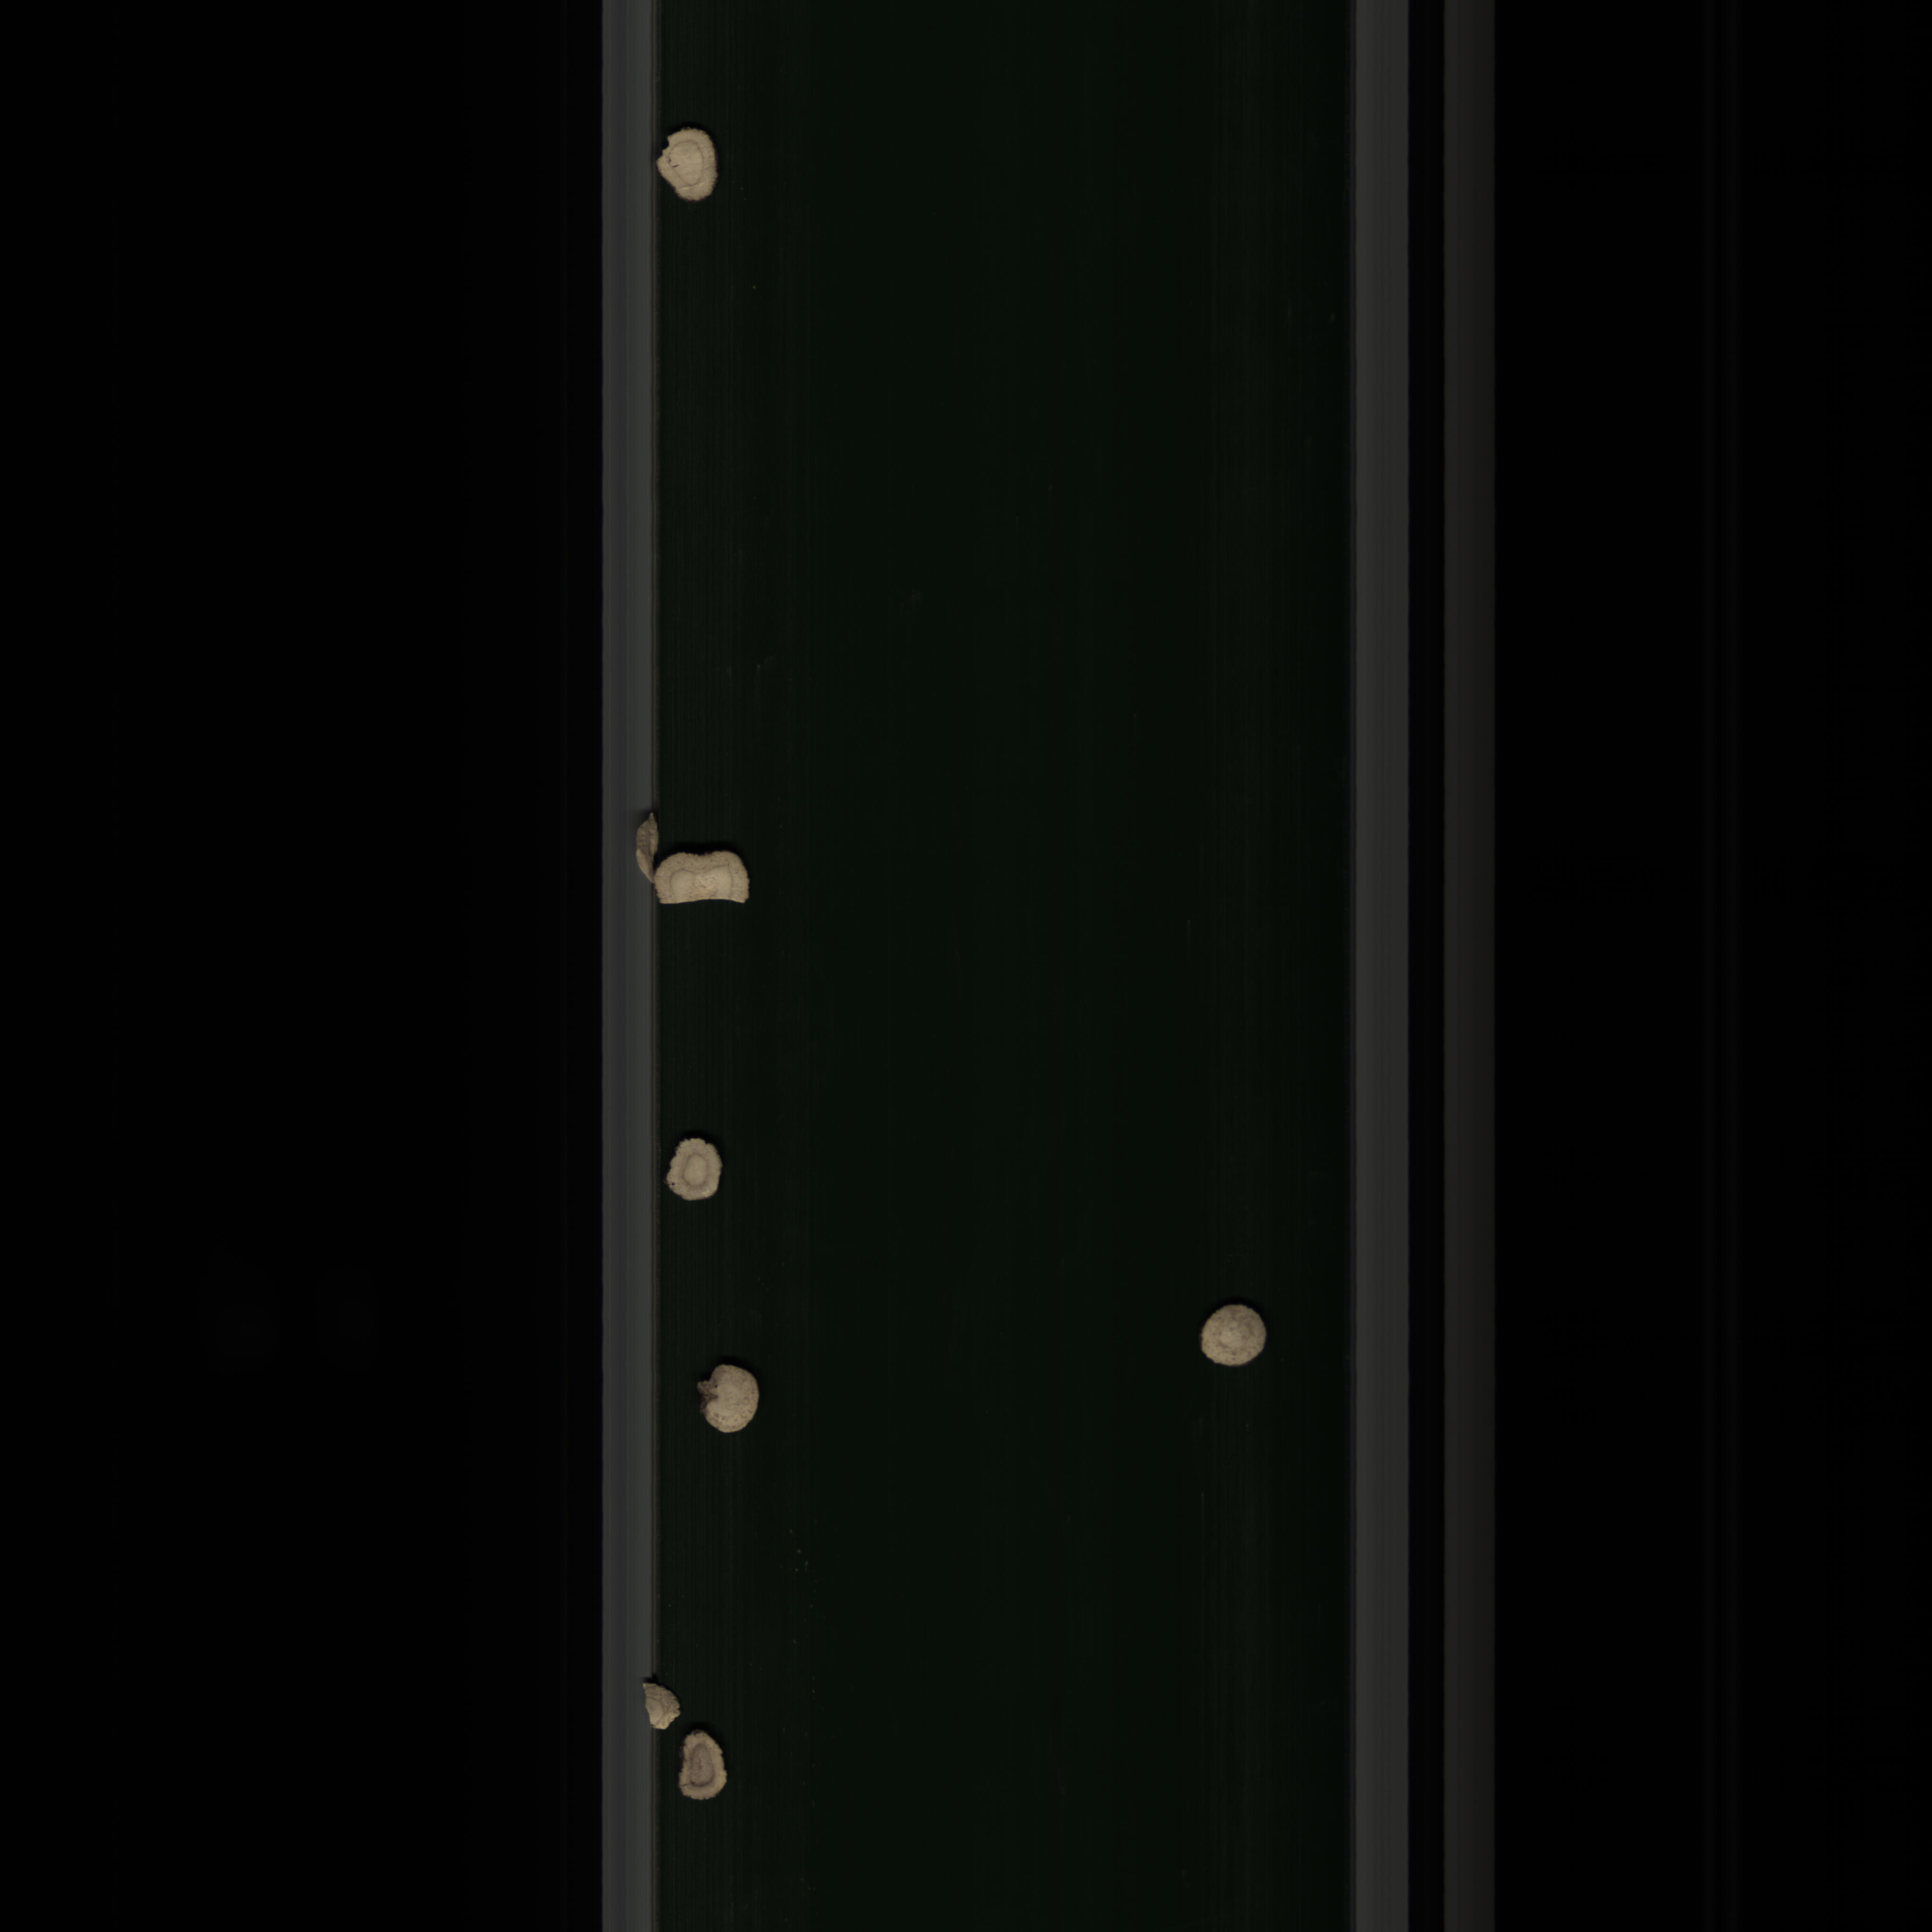debris: (651, 853, 763, 922), (628, 1667, 685, 1739)
moldy: (671, 1730, 747, 1810)
